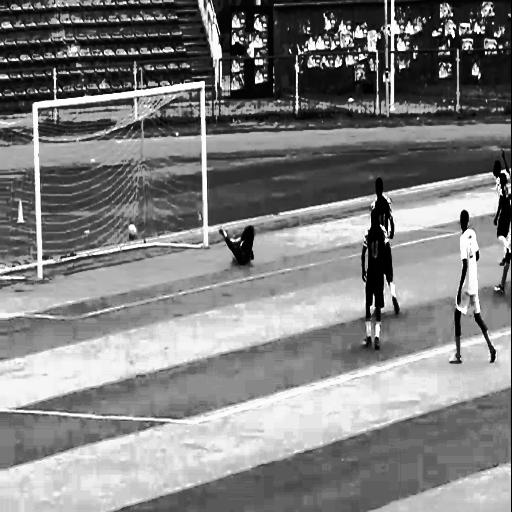ball: (124, 216, 140, 248)
keeper1: (211, 205, 262, 273)
team1: (442, 208, 502, 369)
team2: (346, 167, 412, 359), (485, 140, 512, 270)
